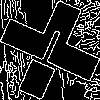T: (25, 25, 72, 80)
